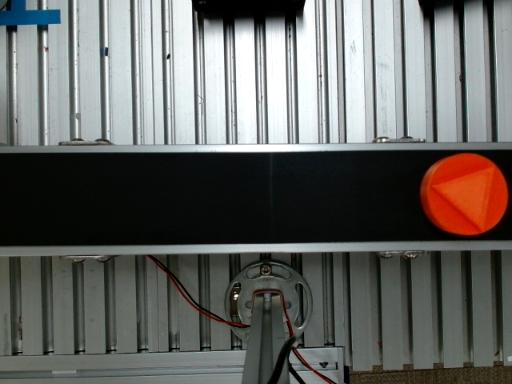Not_Square: (430, 165, 494, 232)
Orange_Waper: (421, 154, 507, 235)
